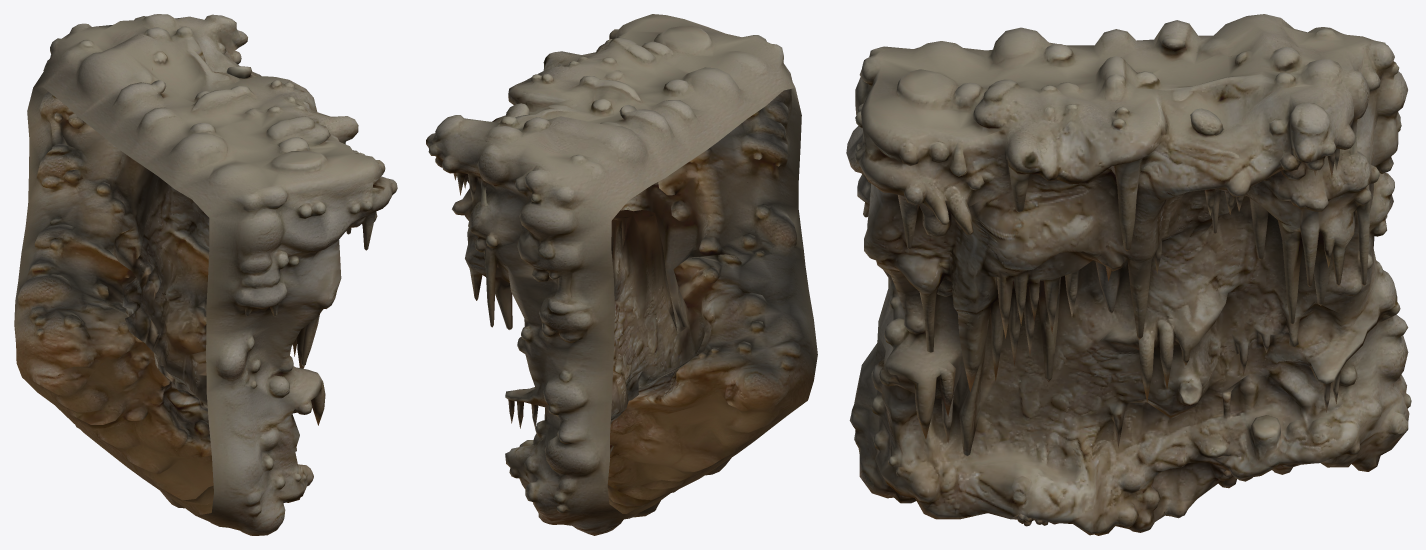
The model's file is cave_ceiling_limestone.glb.
3 views of the same model, side by side, from view 1: azimuth 30°, elevation 25°; view 2: azimuth 150°, elevation 25°; view 3: azimuth 270°, elevation 25° (orthographic). The views are drawn at different scales.
Visible parts, largest first — view 1: tripo_node_8bfda946-65cd-4c79-898d-9c9319adf54f; view 2: tripo_node_8bfda946-65cd-4c79-898d-9c9319adf54f; view 3: tripo_node_8bfda946-65cd-4c79-898d-9c9319adf54f.
Boxes of the visible parts, x1=… form: tripo_node_8bfda946-65cd-4c79-898d-9c9319adf54f: x1=14, y1=14, x2=397, y2=535; tripo_node_8bfda946-65cd-4c79-898d-9c9319adf54f: x1=426, y1=14, x2=817, y2=535; tripo_node_8bfda946-65cd-4c79-898d-9c9319adf54f: x1=846, y1=14, x2=1411, y2=535.
Size of the model in its own units: 0.5527 by 0.9707 by 0.998.
1 material, 1 textured.
